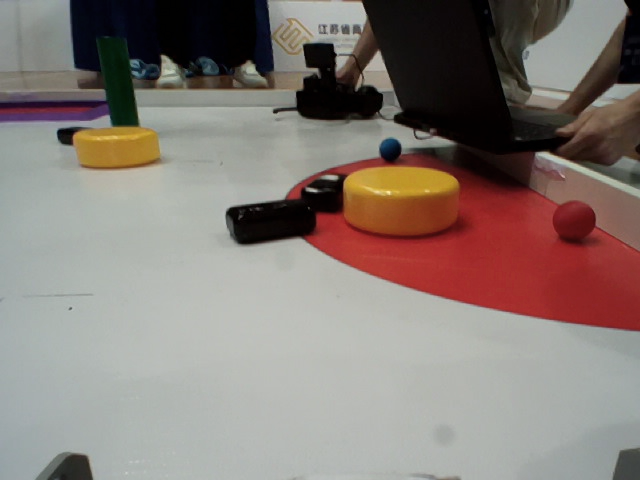black: (210, 197, 325, 251), (297, 164, 357, 207), (52, 121, 95, 148)
blue: (375, 131, 408, 165)
kuang: (1, 98, 120, 129)
red: (549, 191, 600, 244)
yellow: (345, 156, 469, 242), (68, 127, 189, 166)
zhuzi: (92, 32, 149, 135)
